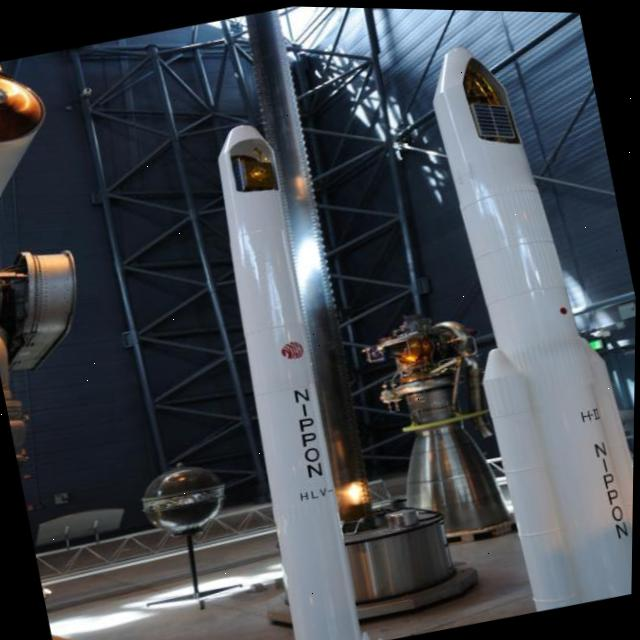missile: (415, 43, 640, 607), (194, 115, 366, 640)
